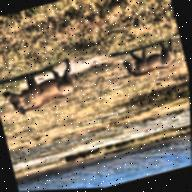boar: (0, 53, 88, 136), (107, 29, 181, 91)
